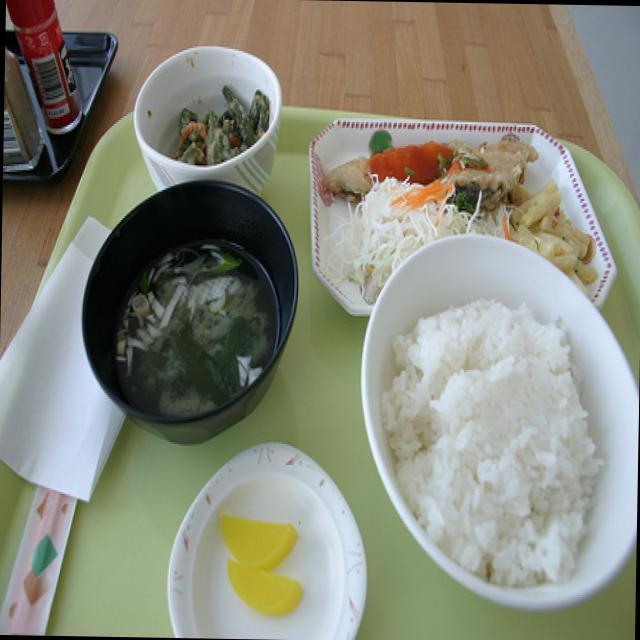Rice: (382, 280, 598, 577)
